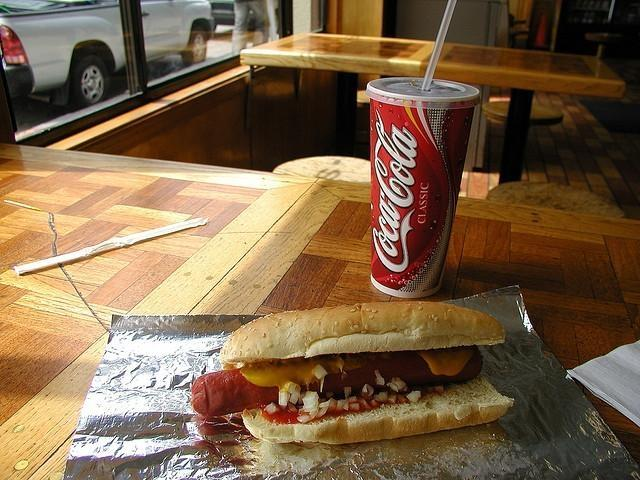car: (0, 0, 215, 105)
